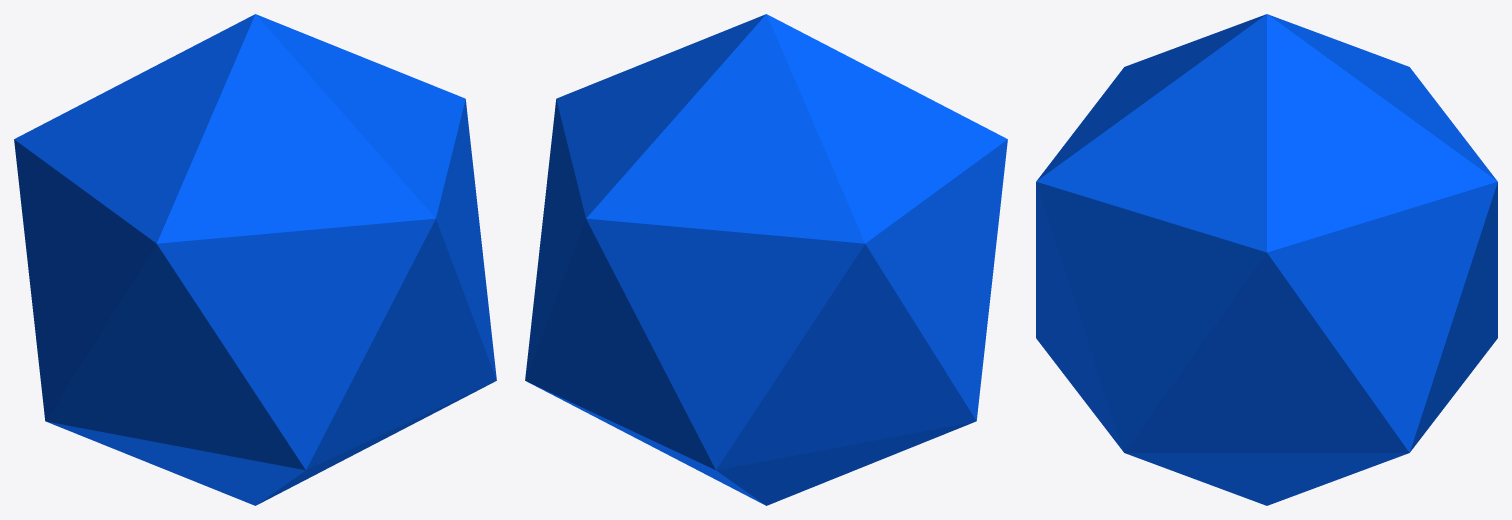
File: core.glb
The picture shows the model from 3 angles, left to right: view 1: azimuth 30°, elevation 25°; view 2: azimuth 150°, elevation 25°; view 3: azimuth 270°, elevation 25°; orthographic projection.
Visible parts, largest first — view 1: ICO球; view 2: ICO球; view 3: ICO球.
Boxes of the visible parts, x1,y1,x2,y2 form: ICO球: (14, 14, 496, 505); ICO球: (525, 14, 1007, 505); ICO球: (1036, 14, 1497, 505).
Size of the model in its own units: 2.68 by 3 by 2.55.
